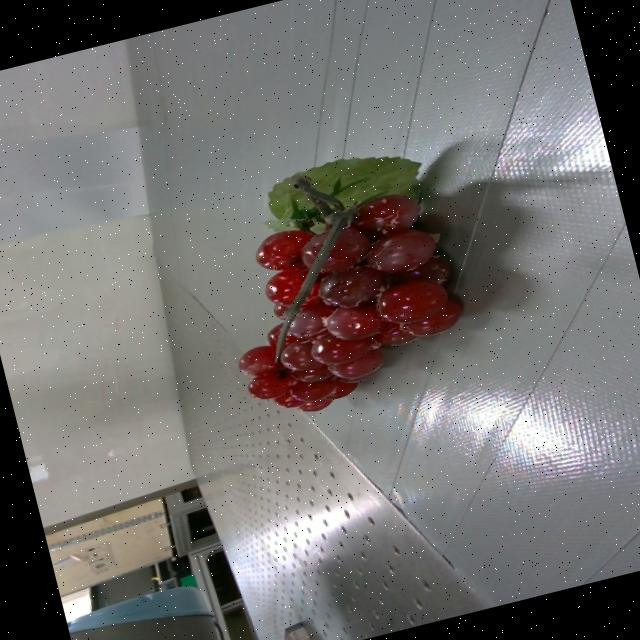grape: (240, 157, 461, 411)
